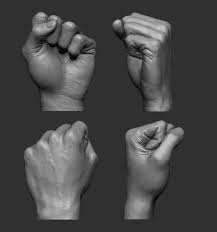fist: (107, 13, 186, 91), (24, 124, 98, 203), (27, 16, 97, 94), (124, 122, 186, 198)
